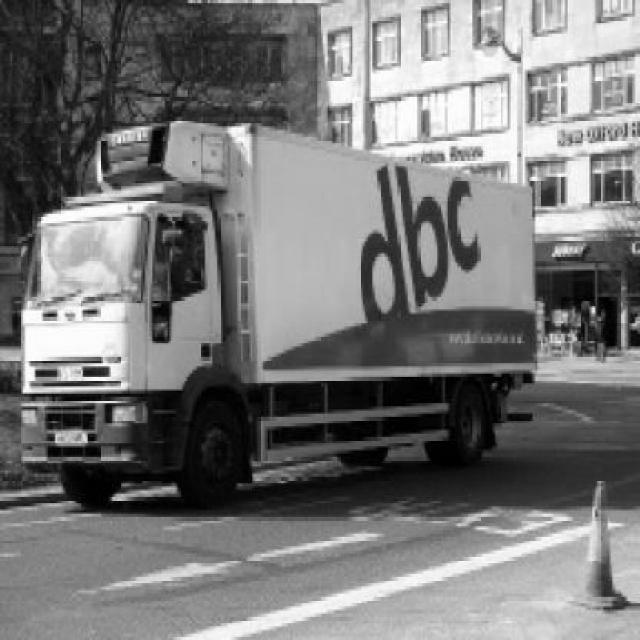Box Truck: (20, 121, 537, 511)
